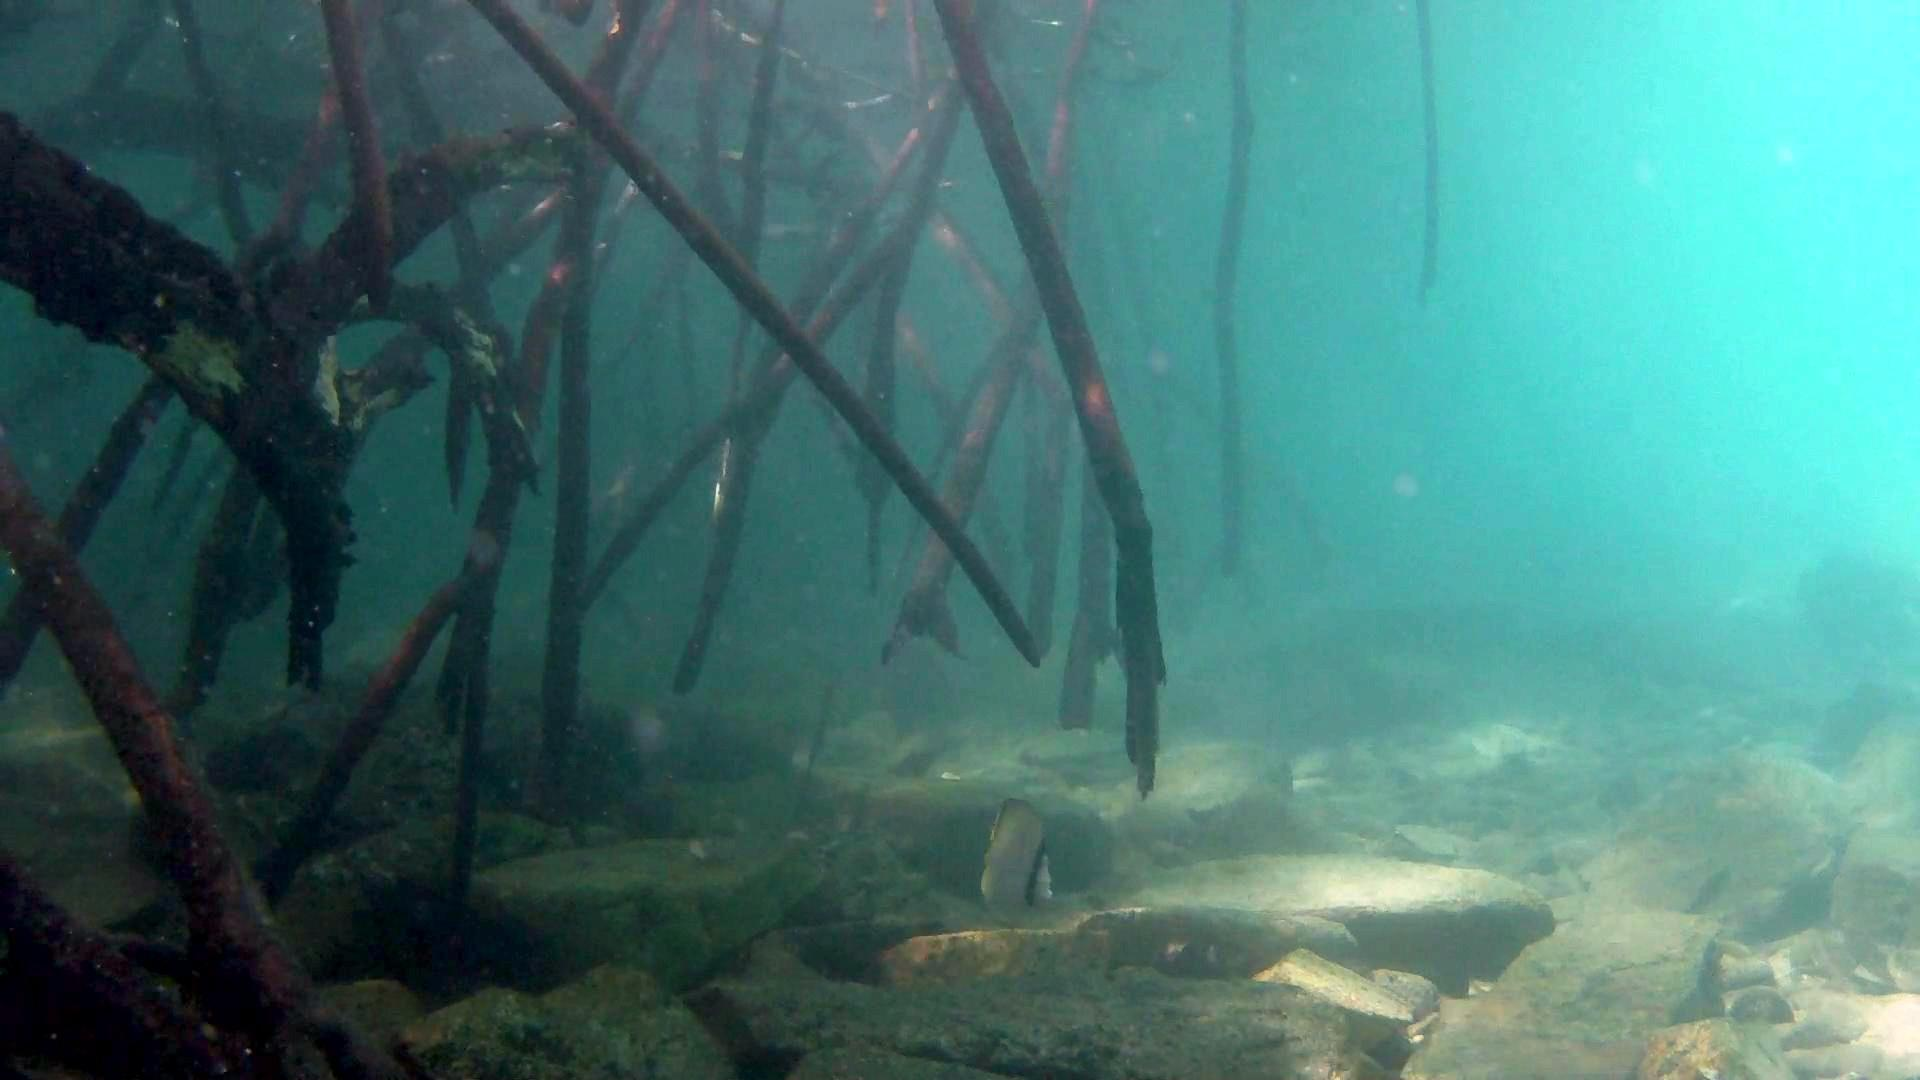chaetodon vagabundus: (978, 795, 1056, 919)
